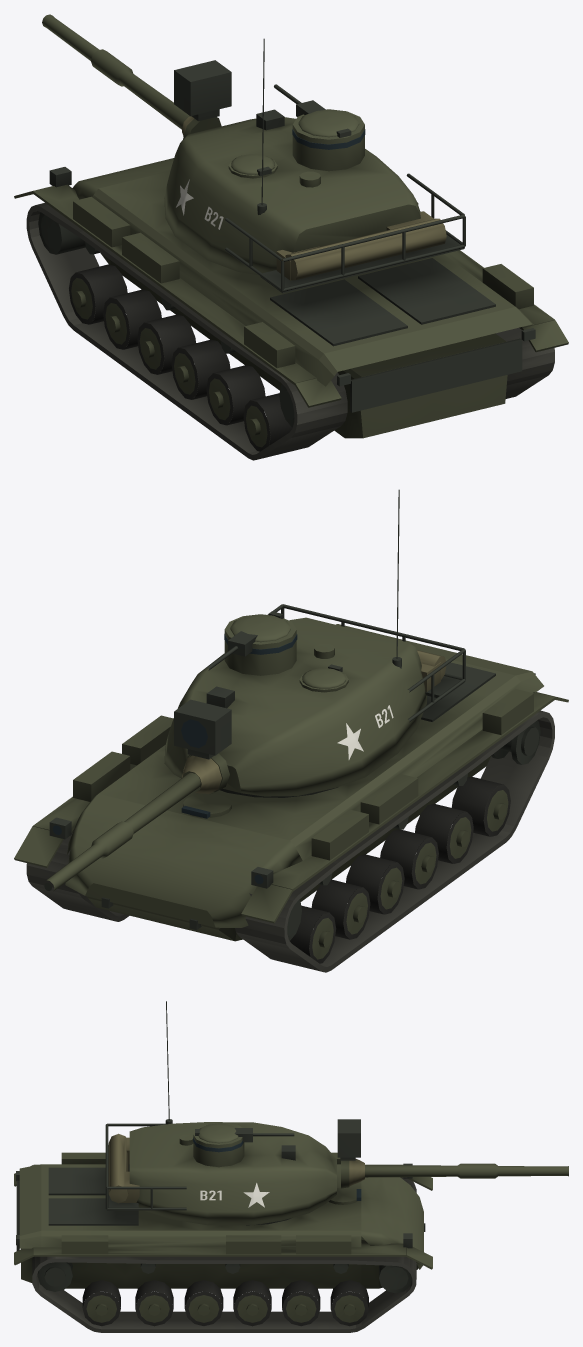
3 views of the same model, one above another, from view 1: azimuth 30°, elevation 25°; view 2: azimuth 150°, elevation 25°; view 3: azimuth 270°, elevation 25° (orthographic). The views are drawn at different scales.
Parts seen in each view (by area): view 1: Hull_M60_Paint, TurretYaw_M60_Paint, Hull_M60_DarkSteel, LeftTrack_M60_TrackSteel, LeftTrack_Motion_M60_Rubber, TurretYaw_M60_DarkSteel, TurretYaw_M60_Canvas, LeftTrack_Motion_M60_Paint, BarrelRecoil_M60_Paint, GunPitch_M60_DarkSteel, LeftTrack_Motion_M60_DarkSteel, RightTrack_M60_TrackSteel; view 2: Hull_M60_Paint, TurretYaw_M60_Paint, LeftTrack_M60_TrackSteel, LeftTrack_Motion_M60_Rubber, LeftTrack_Motion_M60_Paint, TurretYaw_M60_DarkSteel, BarrelRecoil_M60_Paint, Hull_M60_DarkSteel, GunPitch_M60_DarkSteel, RightTrack_M60_TrackSteel, LeftTrack_Motion_M60_DarkSteel, GunPitch_M60_Canvas (+1 smaller); view 3: Hull_M60_Paint, TurretYaw_M60_Paint, RightTrack_M60_TrackSteel, RightTrack_Motion_M60_Rubber, Hull_M60_DarkSteel, RightTrack_Motion_M60_Paint, BarrelRecoil_M60_Paint, TurretYaw_M60_DarkSteel, RightTrack_Motion_M60_DarkSteel, TurretYaw_M60_Canvas, GunPitch_M60_DarkSteel.
Part boxes in pixels (box(x1,y1,x2,y2)): Hull_M60_Paint: box(14, 158, 568, 438); TurretYaw_M60_Paint: box(164, 109, 420, 275); Hull_M60_DarkSteel: box(49, 167, 535, 412); LeftTrack_M60_TrackSteel: box(26, 203, 347, 460); LeftTrack_Motion_M60_Rubber: box(69, 264, 292, 451); TurretYaw_M60_DarkSteel: box(225, 38, 465, 293); TurretYaw_M60_Canvas: box(276, 211, 446, 280); LeftTrack_Motion_M60_Paint: box(71, 278, 267, 447); BarrelRecoil_M60_Paint: box(42, 14, 190, 129); GunPitch_M60_DarkSteel: box(174, 60, 231, 121); LeftTrack_Motion_M60_DarkSteel: box(38, 212, 294, 427); RightTrack_M60_TrackSteel: box(495, 327, 554, 398); Hull_M60_Paint: box(14, 624, 568, 941); TurretYaw_M60_Paint: box(164, 614, 426, 796); LeftTrack_M60_TrackSteel: box(235, 710, 554, 972); LeftTrack_Motion_M60_Rubber: box(290, 776, 510, 963); LeftTrack_Motion_M60_Paint: box(312, 790, 508, 959); TurretYaw_M60_DarkSteel: box(206, 489, 465, 722); BarrelRecoil_M60_Paint: box(46, 772, 200, 891); Hull_M60_DarkSteel: box(49, 662, 535, 929); GunPitch_M60_DarkSteel: box(174, 699, 231, 759); RightTrack_M60_TrackSteel: box(26, 831, 129, 921); LeftTrack_Motion_M60_DarkSteel: box(287, 720, 540, 940); GunPitch_M60_Canvas: box(182, 755, 221, 794); Hull_M60_Paint: box(14, 1152, 432, 1288); TurretYaw_M60_Paint: box(129, 1122, 336, 1225); RightTrack_M60_TrackSteel: box(32, 1243, 416, 1332); RightTrack_Motion_M60_Rubber: box(82, 1280, 368, 1326); Hull_M60_DarkSteel: box(16, 1163, 425, 1250); RightTrack_Motion_M60_Paint: box(86, 1295, 364, 1322); BarrelRecoil_M60_Paint: box(365, 1163, 568, 1178); TurretYaw_M60_DarkSteel: box(105, 1001, 295, 1210); RightTrack_Motion_M60_DarkSteel: box(37, 1262, 412, 1293); TurretYaw_M60_Canvas: box(108, 1133, 139, 1203); GunPitch_M60_DarkSteel: box(337, 1119, 360, 1160).
Size of the model in its own units: 3.66 by 5 by 9.53.
Materials: 7 (1 with a texture image).
